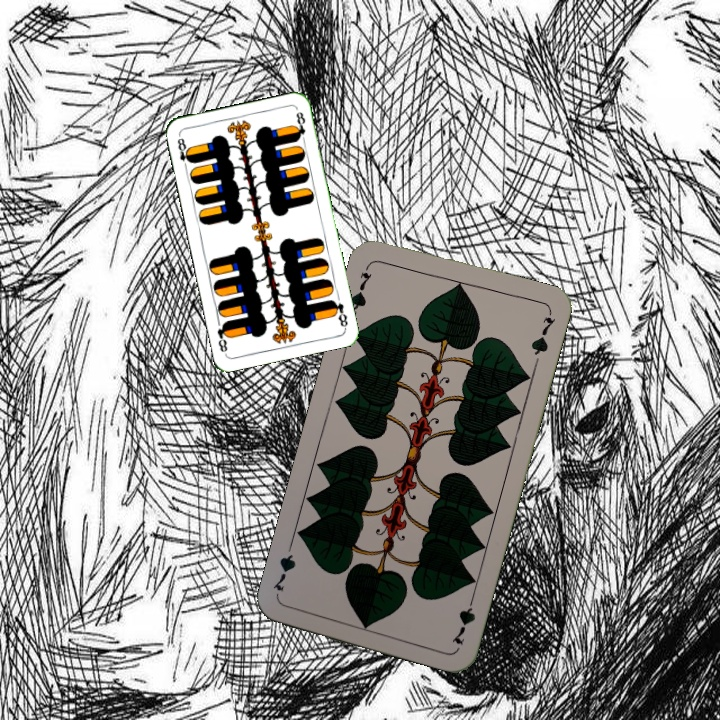E8: (173, 131, 195, 172), (327, 296, 350, 330)
G7: (447, 590, 478, 648), (346, 260, 375, 319)
